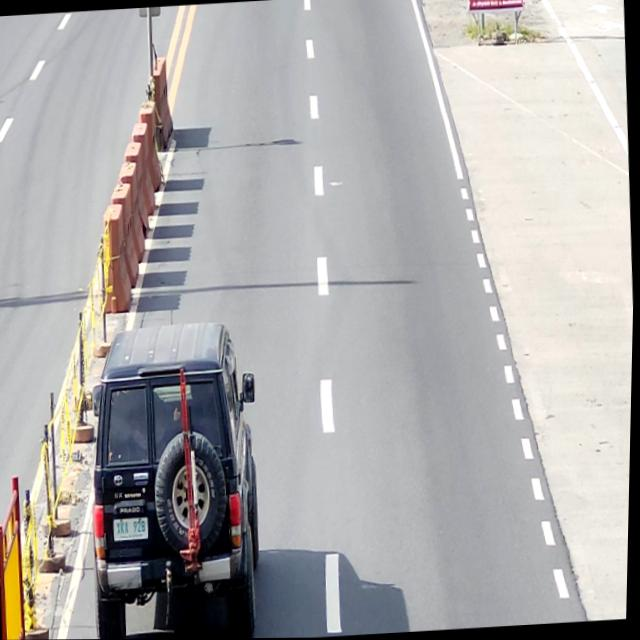Car: (83, 317, 271, 639)
License-Plate: (114, 513, 153, 543)
